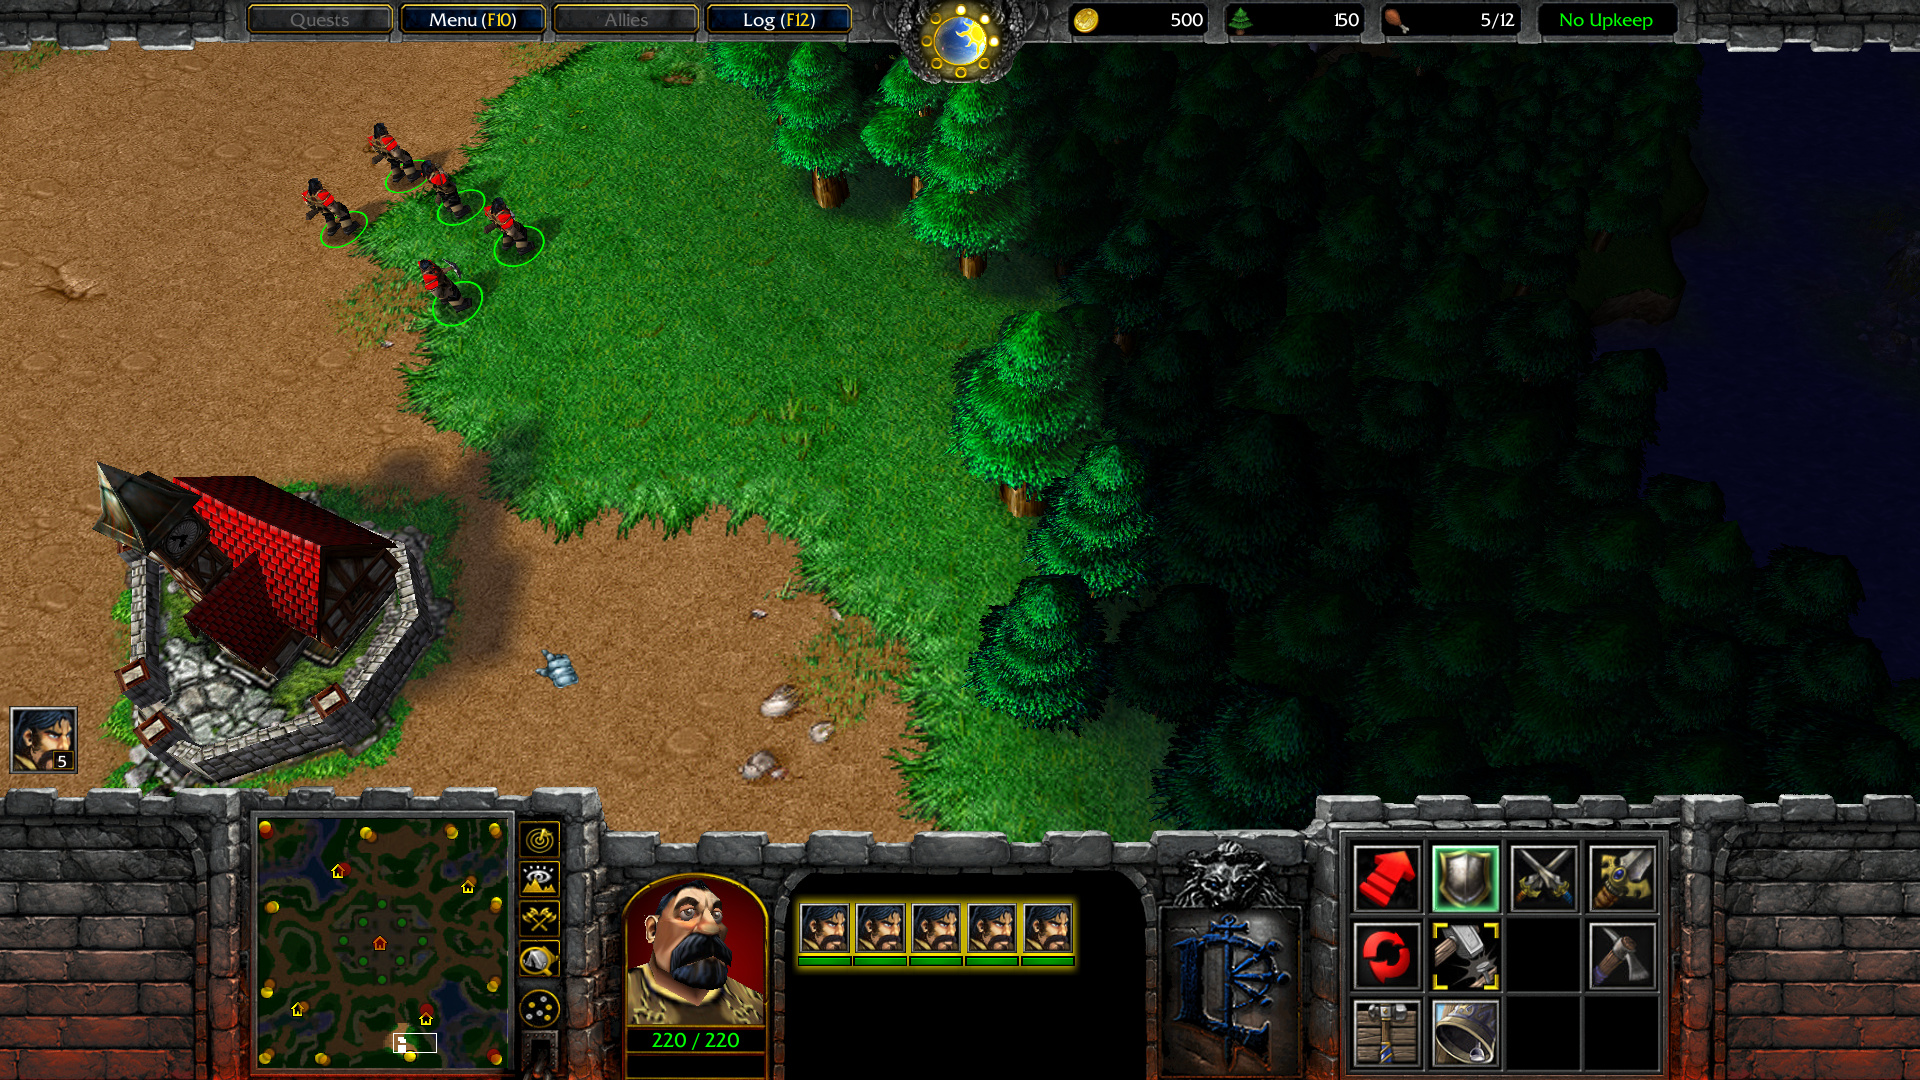Townhall: (87, 456, 460, 798)
